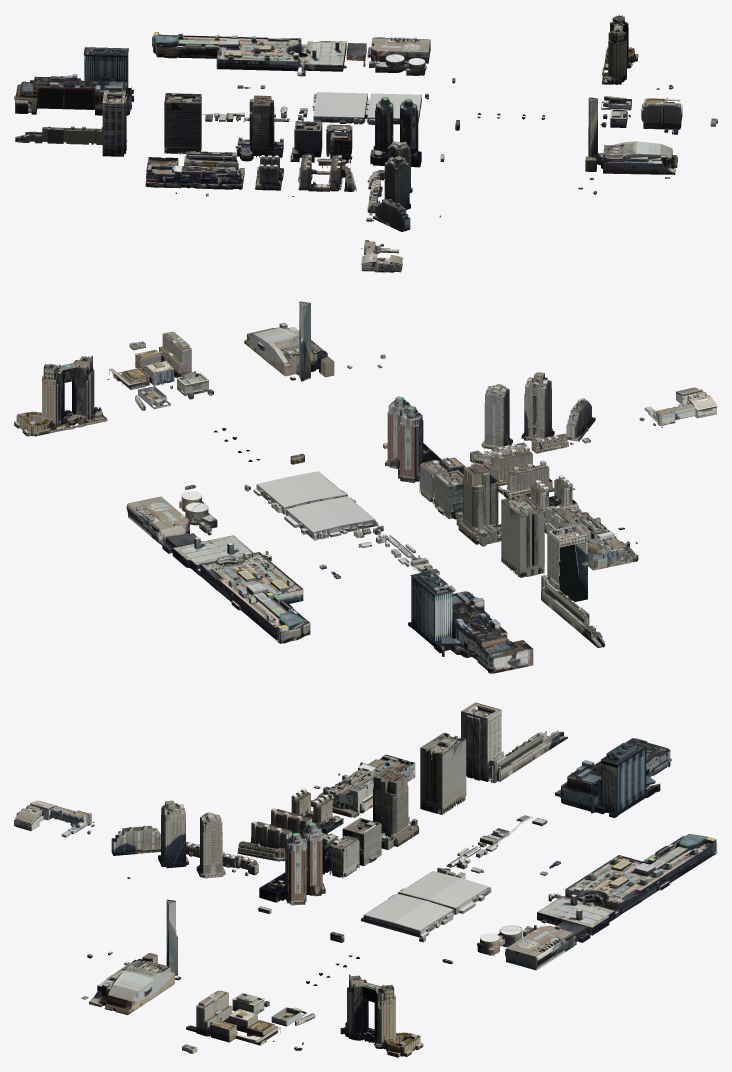
Rendered from 53393652_bldg_6677.fbx.
3 renders of one model, top to bottom at view 1: azimuth 30°, elevation 25°; view 2: azimuth 150°, elevation 25°; view 3: azimuth 270°, elevation 25°, orthographic. The views are drawn at different scales.
Parts seen in each view (by area): view 1: plateau_merged.059, plateau_merged.099, plateau_merged.086, plateau_merged.116, plateau_merged.037, plateau_merged.080, plateau_merged.100, plateau_merged.061, plateau_merged.060, plateau_merged.001, plateau_merged.093, plateau_merged.041 (+17 smaller); view 2: plateau_merged.059, plateau_merged.099, plateau_merged.061, plateau_merged.116, plateau_merged.037, plateau_merged.060, plateau_merged.100, plateau_merged.001, plateau_merged.086, plateau_merged.062, plateau_merged.007, plateau_merged.081 (+16 smaller); view 3: plateau_merged.059, plateau_merged.061, plateau_merged.116, plateau_merged.086, plateau_merged.001, plateau_merged.099, plateau_merged.037, plateau_merged.060, plateau_merged.062, plateau_merged.081, plateau_merged.100, plateau_merged.041 (+17 smaller).
Boxes of the visible parts, left/top/right/bottom form: plateau_merged.059: left=152, top=32, right=346, bottom=76; plateau_merged.099: left=14, top=74, right=133, bottom=115; plateau_merged.086: left=592, top=141, right=677, bottom=174; plateau_merged.116: left=164, top=93, right=201, bottom=154; plateau_merged.037: left=235, top=95, right=283, bottom=161; plateau_merged.080: left=146, top=157, right=240, bottom=183; plateau_merged.100: left=312, top=92, right=367, bottom=124; plateau_merged.061: left=602, top=14, right=638, bottom=84; plateau_merged.060: left=102, top=91, right=126, bottom=156; plateau_merged.001: left=83, top=47, right=128, bottom=87; plateau_merged.093: left=15, top=126, right=127, bottom=144; plateau_merged.041: left=371, top=37, right=430, bottom=63; plateau_merged.059: left=172, top=535, right=310, bottom=643; plateau_merged.099: left=434, top=591, right=533, bottom=673; plateau_merged.061: left=14, top=355, right=107, bottom=436; plateau_merged.116: left=501, top=494, right=544, bottom=577; plateau_merged.037: left=456, top=463, right=501, bottom=546; plateau_merged.060: left=547, top=524, right=587, bottom=601; plateau_merged.100: left=284, top=496, right=378, bottom=540; plateau_merged.001: left=410, top=571, right=453, bottom=646; plateau_merged.086: left=244, top=322, right=327, bottom=376; plateau_merged.062: left=253, top=471, right=347, bottom=514; plateau_merged.007: left=490, top=446, right=554, bottom=499; plateau_merged.081: left=109, top=331, right=191, bottom=389; plateau_merged.059: left=537, top=834, right=717, bottom=935; plateau_merged.061: left=340, top=974, right=423, bottom=1057; plateau_merged.116: left=420, top=732, right=466, bottom=814; plateau_merged.086: left=89, top=958, right=174, bottom=1015; plateau_merged.001: left=601, top=741, right=646, bottom=815; plateau_merged.099: left=559, top=738, right=672, bottom=813; plateau_merged.037: left=373, top=770, right=419, bottom=849; plateau_merged.060: left=461, top=702, right=501, bottom=781; plateau_merged.062: left=361, top=893, right=453, bottom=937; plateau_merged.081: left=196, top=990, right=280, bottom=1045; plateau_merged.100: left=398, top=871, right=491, bottom=914; plateau_merged.041: left=505, top=925, right=575, bottom=970.
Size of the model in its own units: 128532 by 14489 by 118863.
120 materials, 120 textured.
